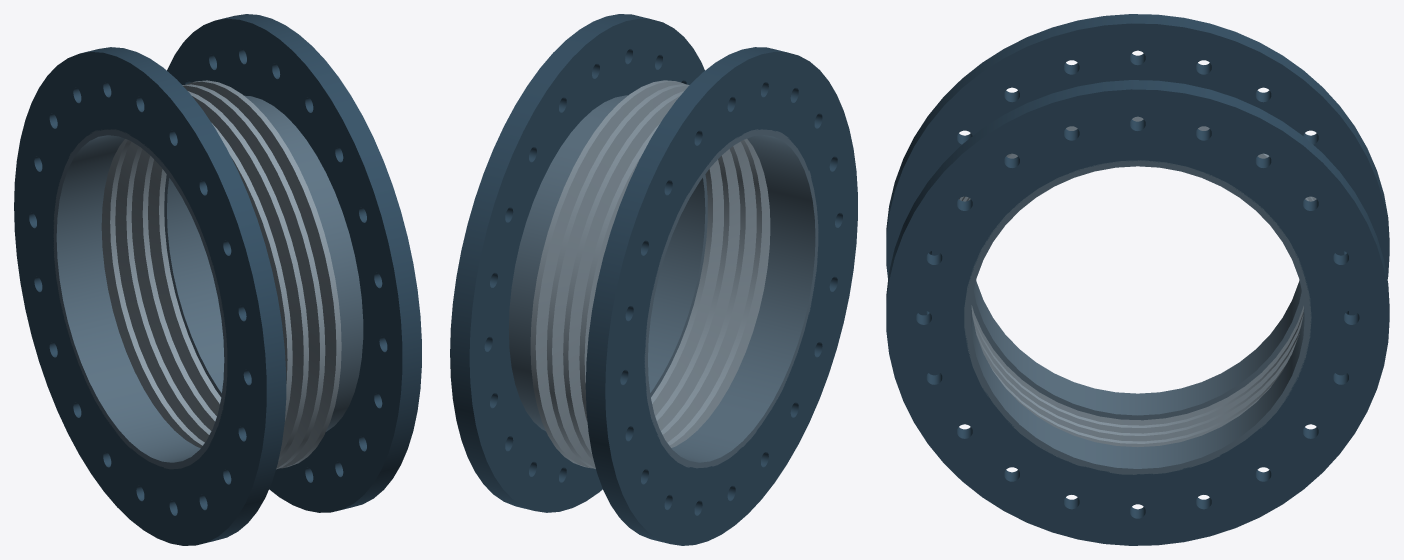
Rendered from flan-dn700-L370-D720-f.glb.
The picture shows the model from 3 angles, left to right: view 1: azimuth 30°, elevation 25°; view 2: azimuth 150°, elevation 25°; view 3: azimuth 270°, elevation 25°; orthographic projection.
Visible parts, largest first — view 1: homut_flanec_1, prokladka_silfon_1, homut_flanec_2, patrubok_1, patrubok_2; view 2: homut_flanec_1, prokladka_silfon_1, homut_flanec_2, patrubok_1, patrubok_2; view 3: homut_flanec_2, homut_flanec_1, patrubok_2, patrubok_1, prokladka_silfon_1.
Part boxes in pixels (x1,y1,x2,y2): homut_flanec_1: [14, 47, 286, 545]; prokladka_silfon_1: [101, 80, 341, 469]; homut_flanec_2: [167, 14, 421, 512]; patrubok_1: [53, 129, 227, 469]; patrubok_2: [164, 95, 363, 431]; homut_flanec_1: [585, 47, 857, 545]; prokladka_silfon_1: [530, 80, 770, 468]; homut_flanec_2: [450, 14, 704, 512]; patrubok_1: [644, 129, 818, 468]; patrubok_2: [508, 95, 707, 431]; homut_flanec_2: [886, 80, 1389, 545]; homut_flanec_1: [886, 14, 1389, 375]; patrubok_2: [964, 160, 1311, 474]; patrubok_1: [971, 280, 1303, 420]; prokladka_silfon_1: [959, 116, 1316, 447].
Size of the model in its own units: 370 by 1044 by 1043.
